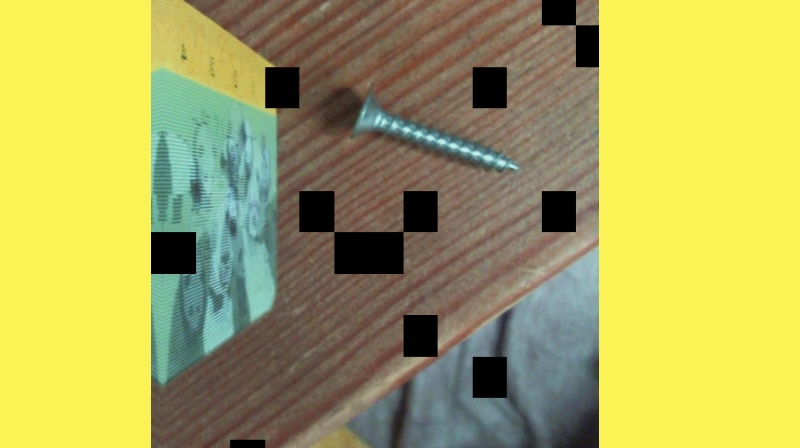S001: (347, 82, 521, 179)
